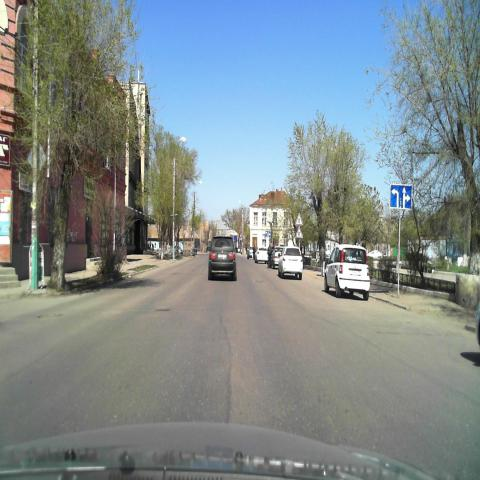1_20_3: (294, 213, 302, 225)
1_21: (295, 226, 303, 238)
5_15_2_2: (390, 184, 412, 210)
